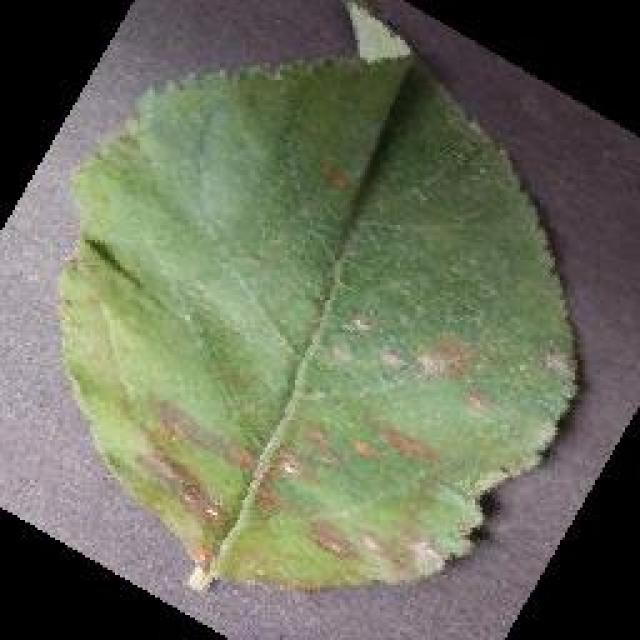apple rust disease: (52, 33, 582, 595)
